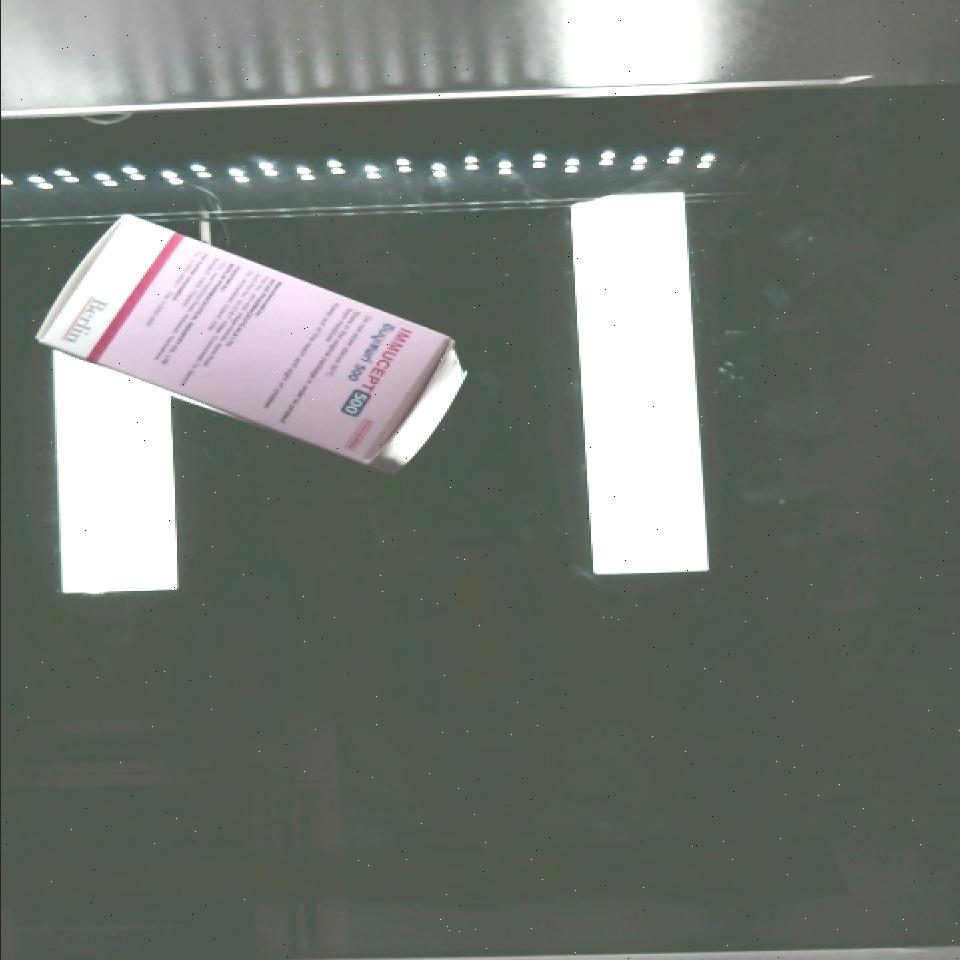medicine_box: (31, 197, 455, 481)
medicine_label_obb: (328, 317, 424, 434)
